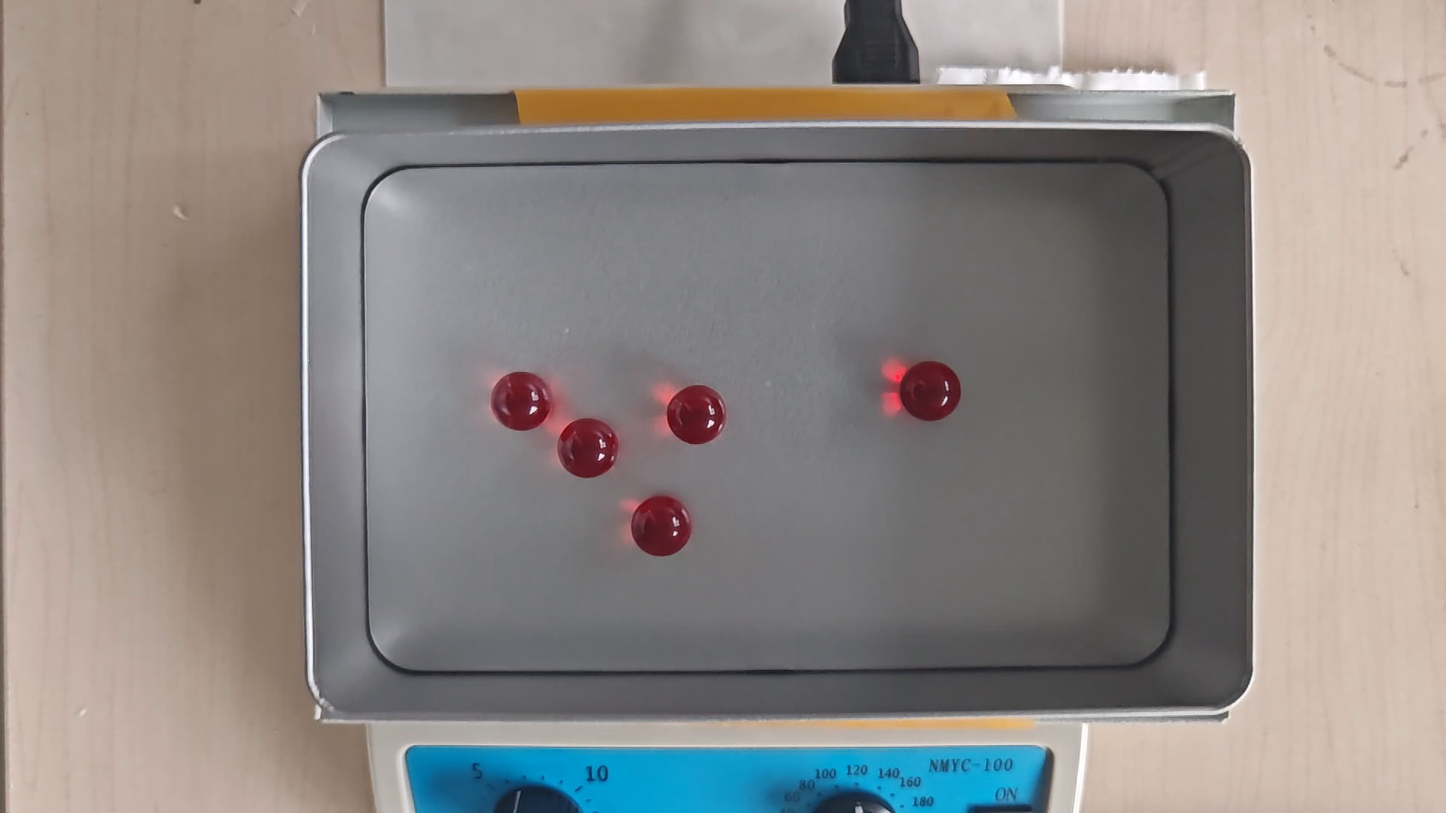ball: (901, 359, 961, 424), (557, 418, 619, 480), (632, 494, 693, 557), (491, 370, 552, 432), (668, 384, 725, 446)
container: (362, 161, 1174, 670)
